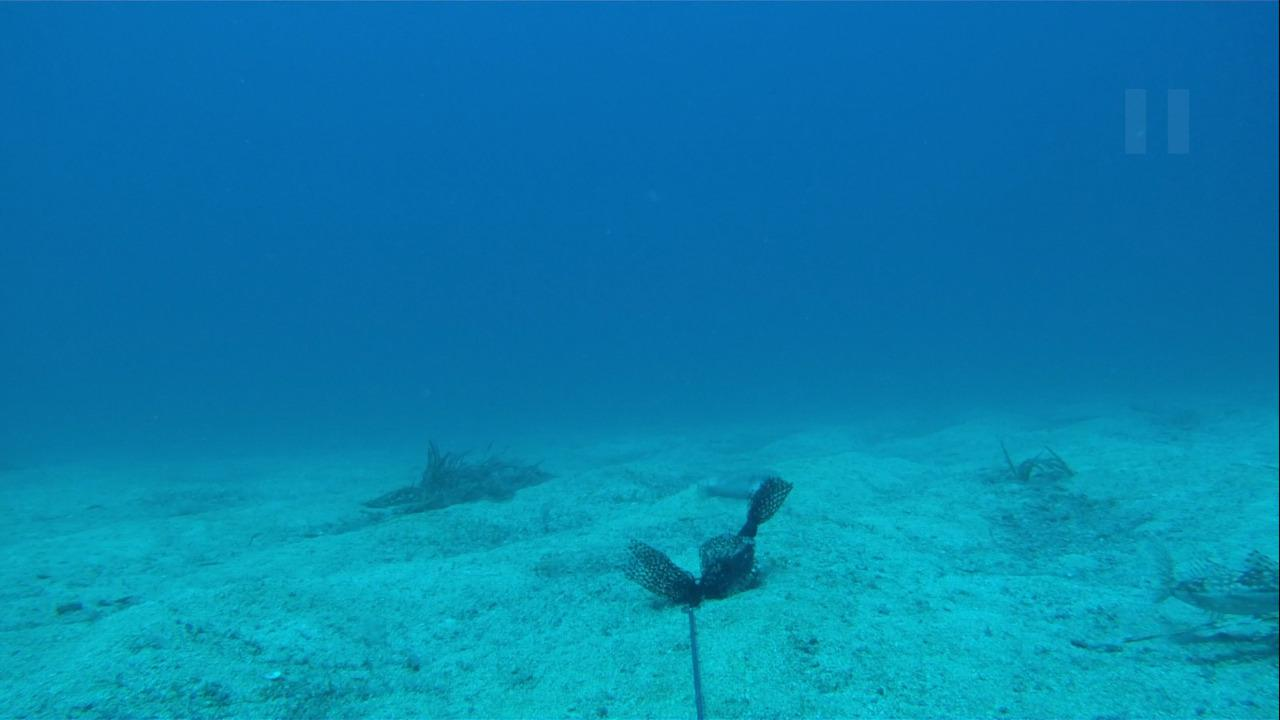dactylopterus: (1135, 541, 1279, 644)
raor: (692, 472, 791, 506)
